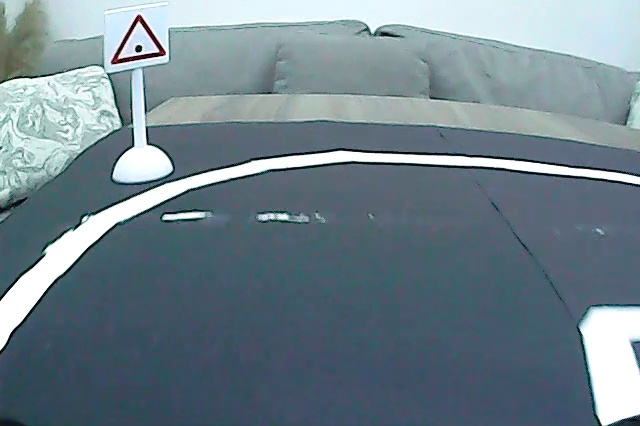green light: (107, 9, 169, 69)
